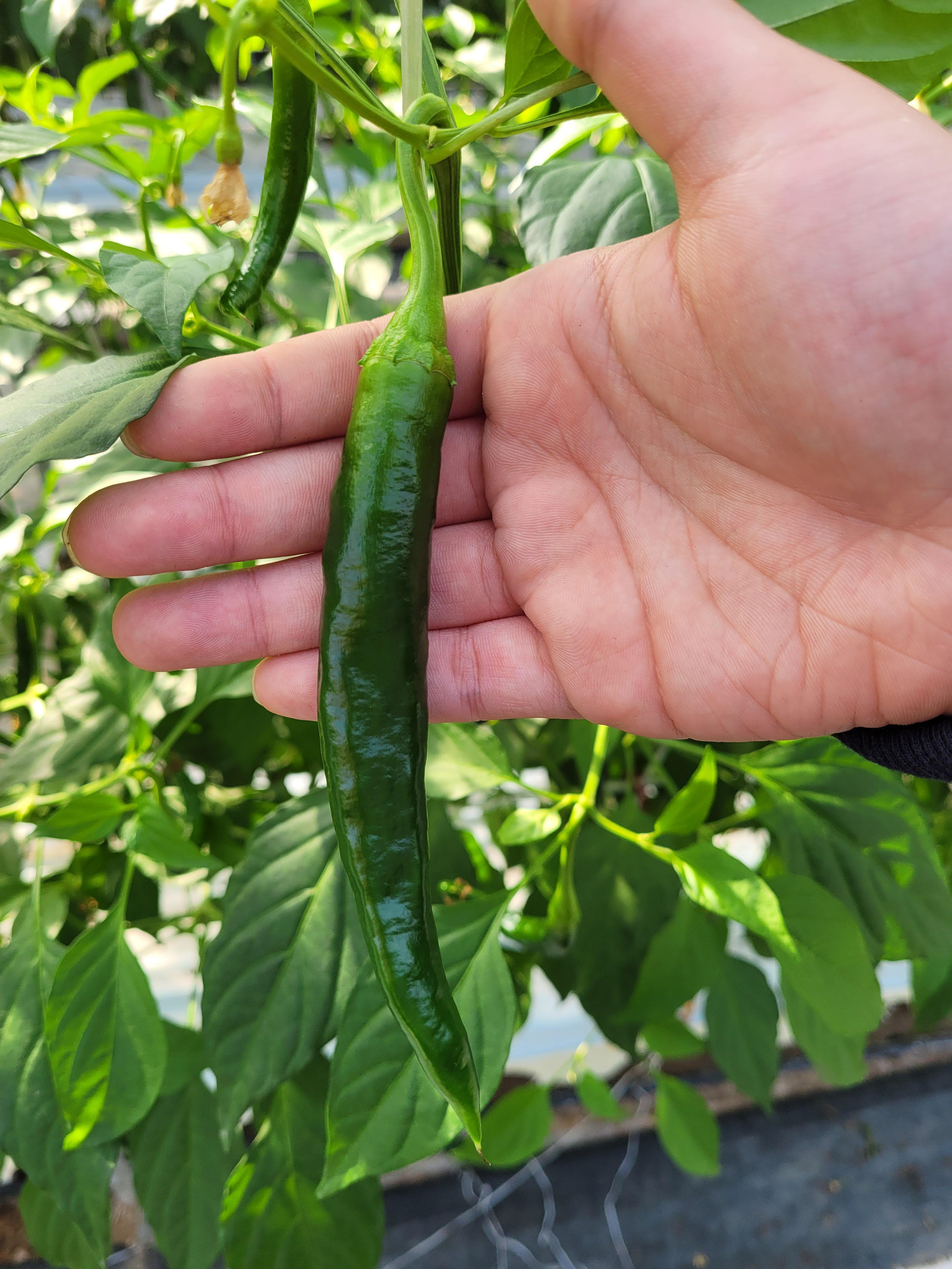Buah Cabai Sehat: (313, 300, 494, 1161), (217, 0, 320, 321)
